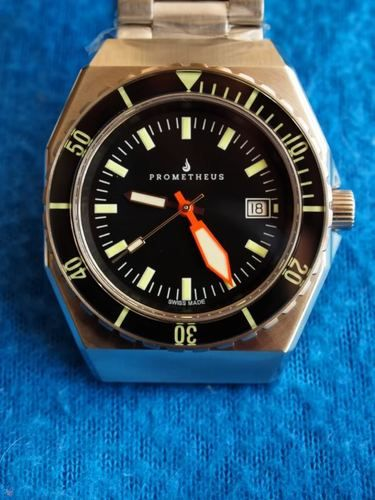clock: (43, 64, 334, 352)
